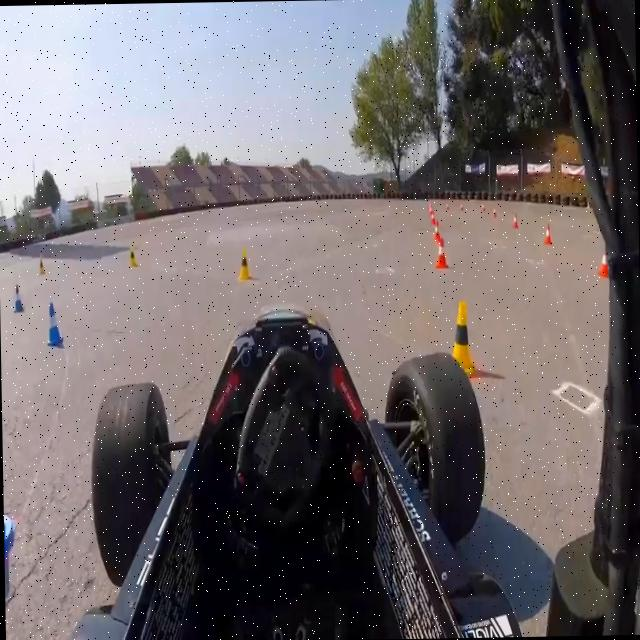blue_cone: (2, 440, 17, 566), (46, 300, 62, 347), (13, 282, 24, 312)
orange_cone: (434, 237, 448, 270), (596, 246, 610, 278), (544, 220, 552, 243), (434, 220, 440, 242), (512, 210, 518, 228), (430, 209, 434, 224)
yellow_cone: (446, 298, 476, 378), (236, 248, 252, 280), (129, 244, 136, 266), (38, 254, 45, 274)
